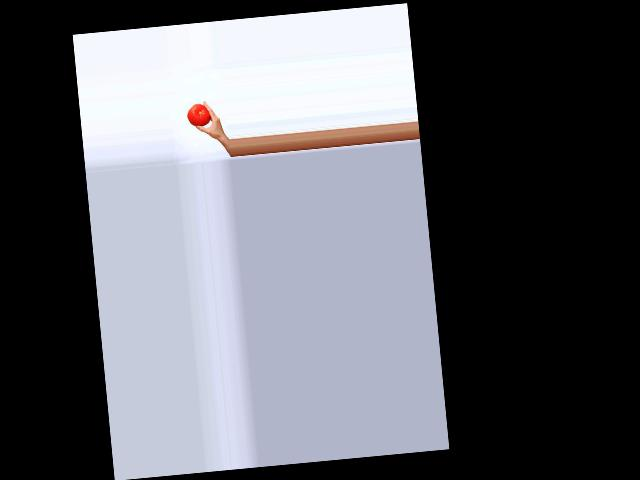tomato: (186, 102, 210, 126)
